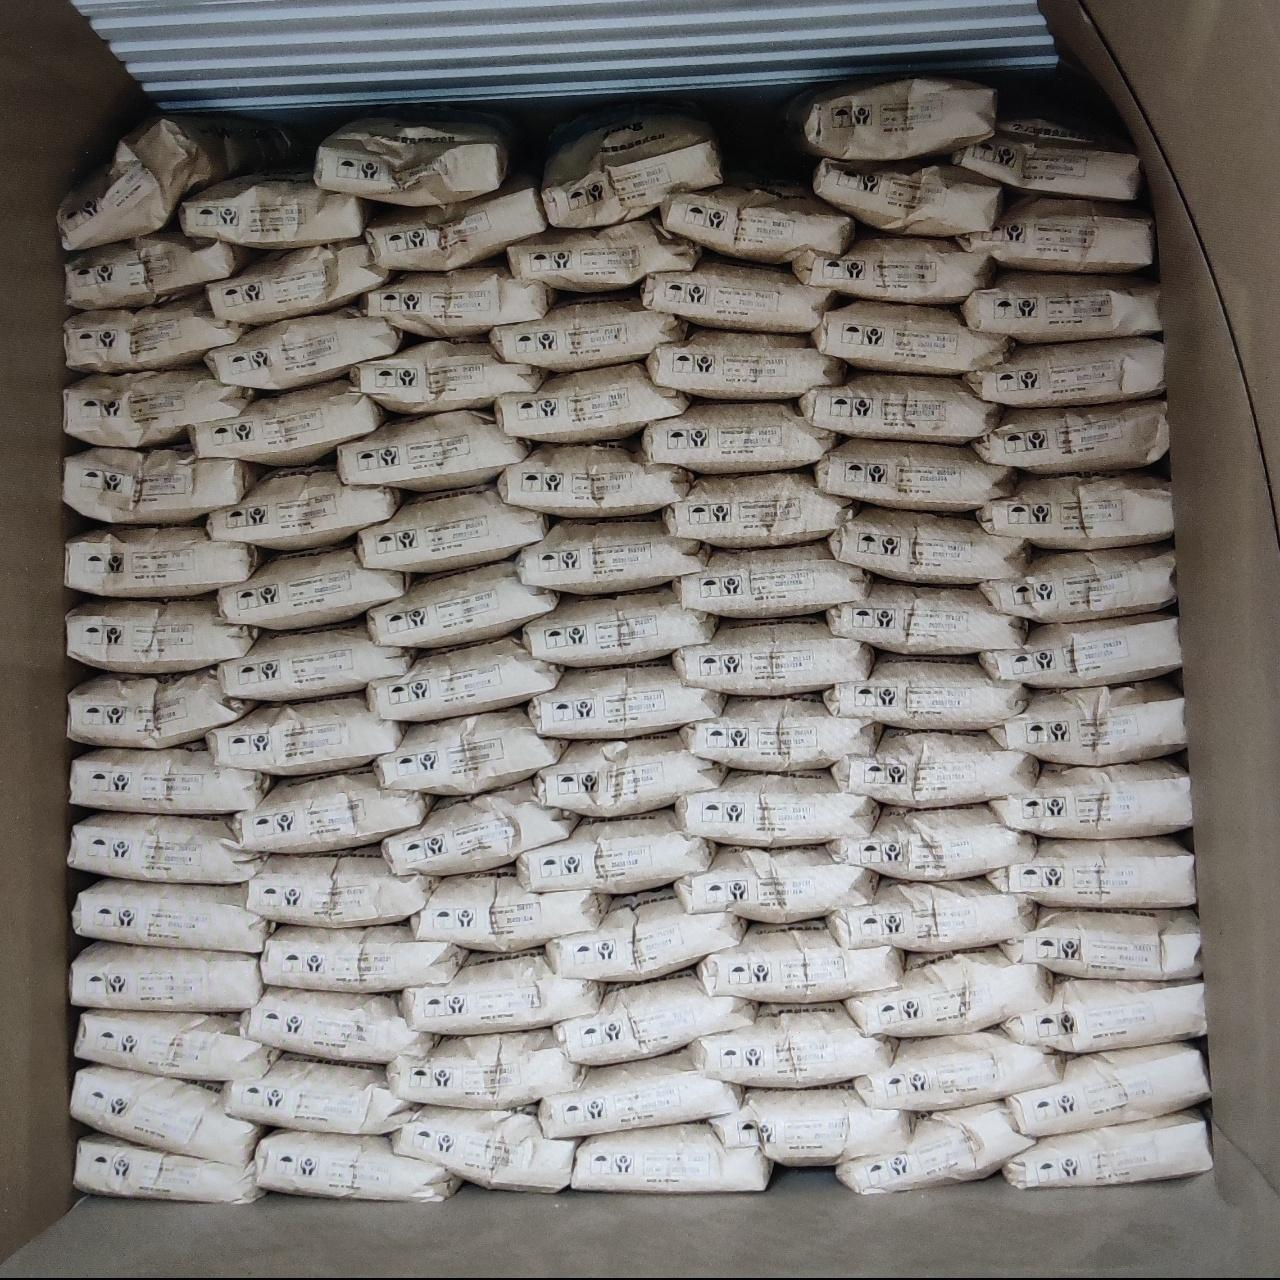sack: (57, 118, 292, 246), (542, 116, 719, 222), (384, 779, 578, 874), (768, 79, 994, 159), (847, 948, 1051, 1036), (72, 1064, 263, 1158), (556, 972, 754, 1062), (1006, 1044, 1206, 1133), (549, 890, 744, 980), (318, 120, 526, 204), (540, 1050, 742, 1133), (234, 768, 433, 852), (840, 1104, 1034, 1190), (855, 1030, 1062, 1110), (690, 1005, 894, 1085), (376, 708, 566, 794), (992, 680, 1184, 764), (400, 952, 602, 1032), (207, 467, 404, 549), (368, 178, 544, 270), (518, 810, 714, 892), (368, 560, 556, 646), (710, 1085, 914, 1164), (190, 380, 384, 462), (206, 308, 404, 388), (368, 636, 560, 719), (660, 181, 852, 263), (358, 486, 546, 570), (218, 546, 408, 628), (992, 760, 1190, 838), (835, 730, 1039, 806), (207, 694, 402, 774), (411, 870, 606, 949), (536, 731, 724, 813), (954, 116, 1141, 198), (1005, 1112, 1210, 1186), (388, 1030, 584, 1108), (496, 362, 686, 442), (224, 1054, 414, 1133), (392, 1108, 576, 1190), (830, 506, 1028, 583), (828, 578, 1024, 654), (678, 846, 874, 922), (207, 240, 390, 322), (697, 924, 900, 998), (340, 410, 527, 490), (64, 366, 252, 445), (1005, 976, 1204, 1051), (674, 618, 870, 694), (676, 772, 878, 846), (524, 586, 716, 663), (642, 254, 835, 332), (978, 472, 1172, 549), (530, 662, 724, 738), (66, 230, 254, 308), (794, 229, 994, 302), (828, 806, 1034, 878), (492, 294, 686, 370), (826, 654, 1026, 728), (986, 838, 1194, 908), (956, 196, 1155, 270), (680, 696, 878, 770), (64, 448, 263, 522), (830, 878, 1034, 949), (218, 622, 411, 697), (980, 546, 1175, 620), (352, 338, 546, 411), (241, 988, 436, 1062), (360, 260, 554, 334), (980, 614, 1180, 686), (248, 850, 436, 926), (508, 216, 700, 290), (498, 442, 690, 516), (74, 878, 272, 949), (66, 524, 264, 595), (674, 542, 869, 614), (812, 302, 1008, 374), (68, 595, 254, 670), (813, 159, 1000, 234), (66, 294, 246, 372), (816, 440, 1014, 510), (799, 372, 998, 442), (962, 272, 1160, 342), (648, 328, 846, 399), (972, 399, 1166, 470), (254, 1130, 458, 1198), (72, 744, 270, 813), (663, 472, 855, 544), (964, 338, 1164, 406), (642, 400, 836, 470), (518, 518, 708, 590), (76, 1010, 275, 1078), (1002, 908, 1198, 978), (263, 924, 464, 990), (181, 176, 372, 246), (70, 670, 252, 744), (70, 812, 263, 881), (70, 942, 263, 1010), (574, 1124, 770, 1190), (76, 1133, 260, 1201)
